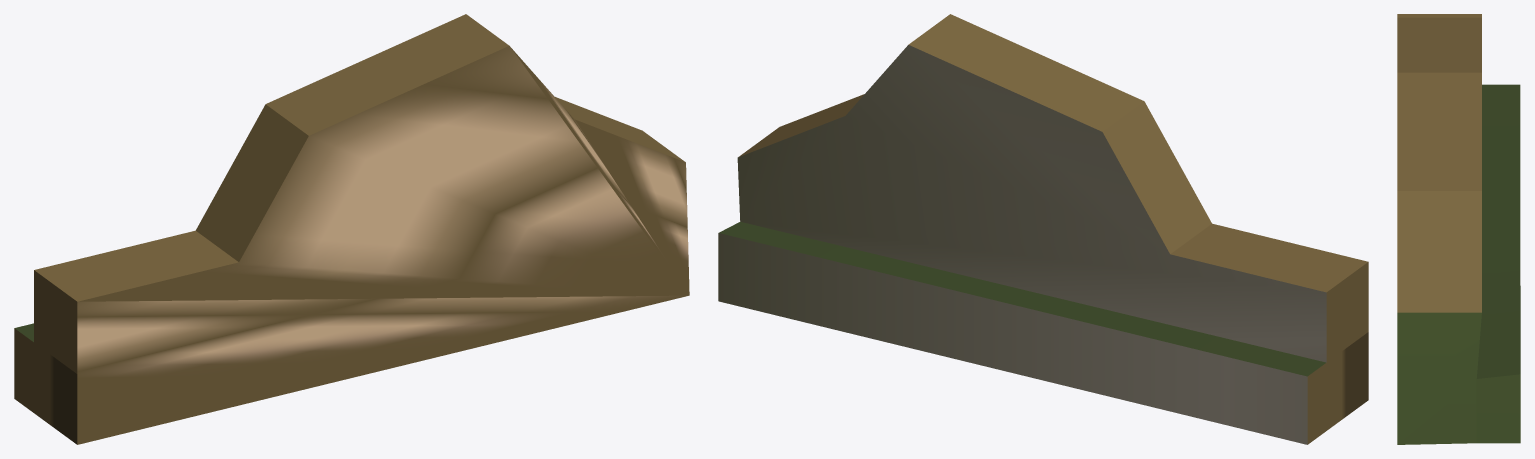
The model's file is SM_Env_Wall_Damaged_02.gltf.
3 renders of one model, left to right at view 1: azimuth 30°, elevation 25°; view 2: azimuth 150°, elevation 25°; view 3: azimuth 270°, elevation 25°, orthographic. The views are drawn at different scales.
Parts seen in each view (by area): view 1: SM_Env_Wall_Damaged_02; view 2: SM_Env_Wall_Damaged_02; view 3: SM_Env_Wall_Damaged_02.
Part boxes in pixels (x1,y1,x2,y2): SM_Env_Wall_Damaged_02: [14, 14, 689, 444]; SM_Env_Wall_Damaged_02: [718, 14, 1368, 444]; SM_Env_Wall_Damaged_02: [1397, 14, 1520, 444].
Bounding box in the file's own units: 3.46 × 1.59 × 0.6182.
Materials: 1 (1 with a texture image).
